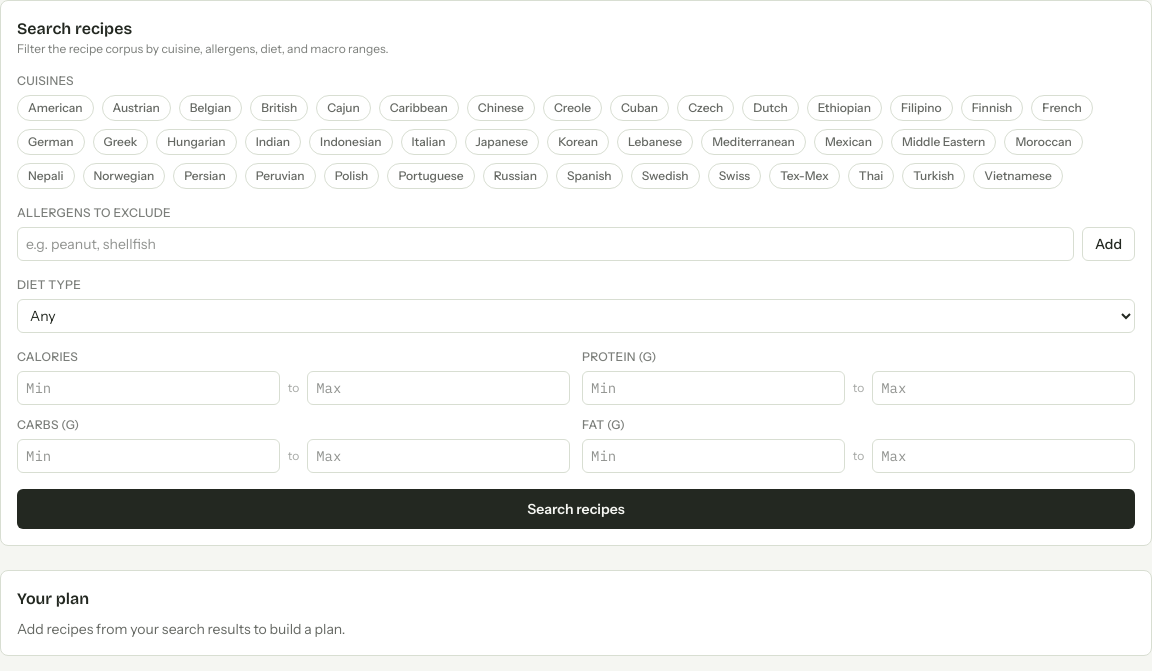
it: RecipeSearchPage › surfaces macro_unavailable_excluded when nonzero
Click the button "Search recipes": (576, 509) 17,489 -> 1135,529
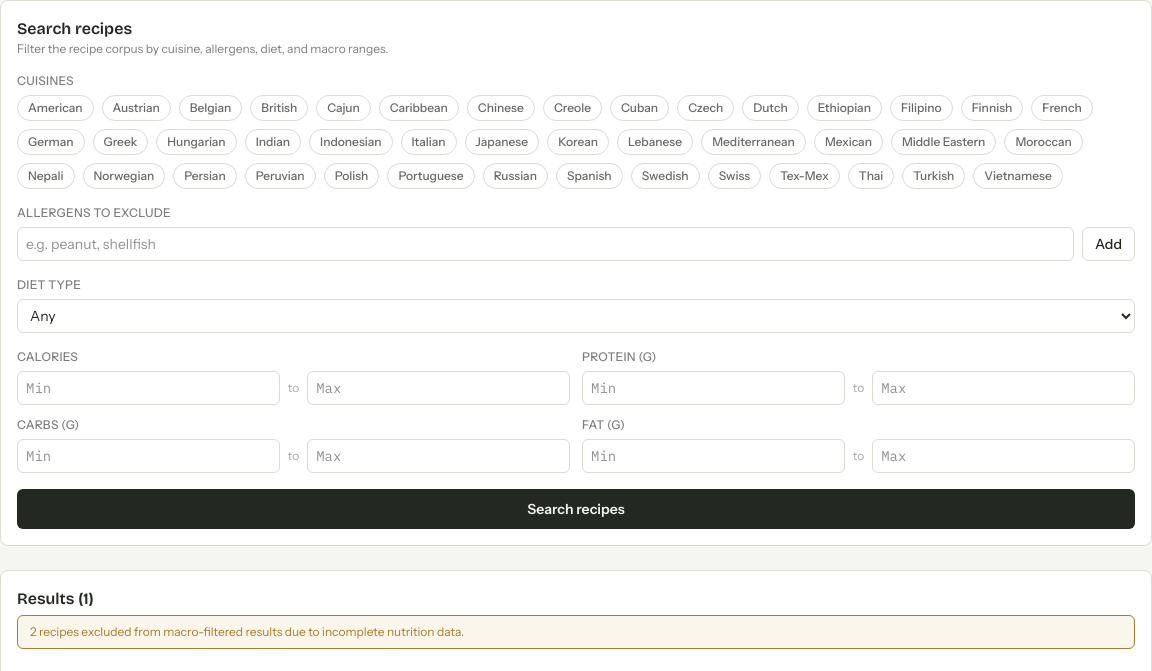
Result: the text "2 recipes excluded from macro-filtered results due to incomplete nutrition data." is shown at 17,615 -> 1135,649
